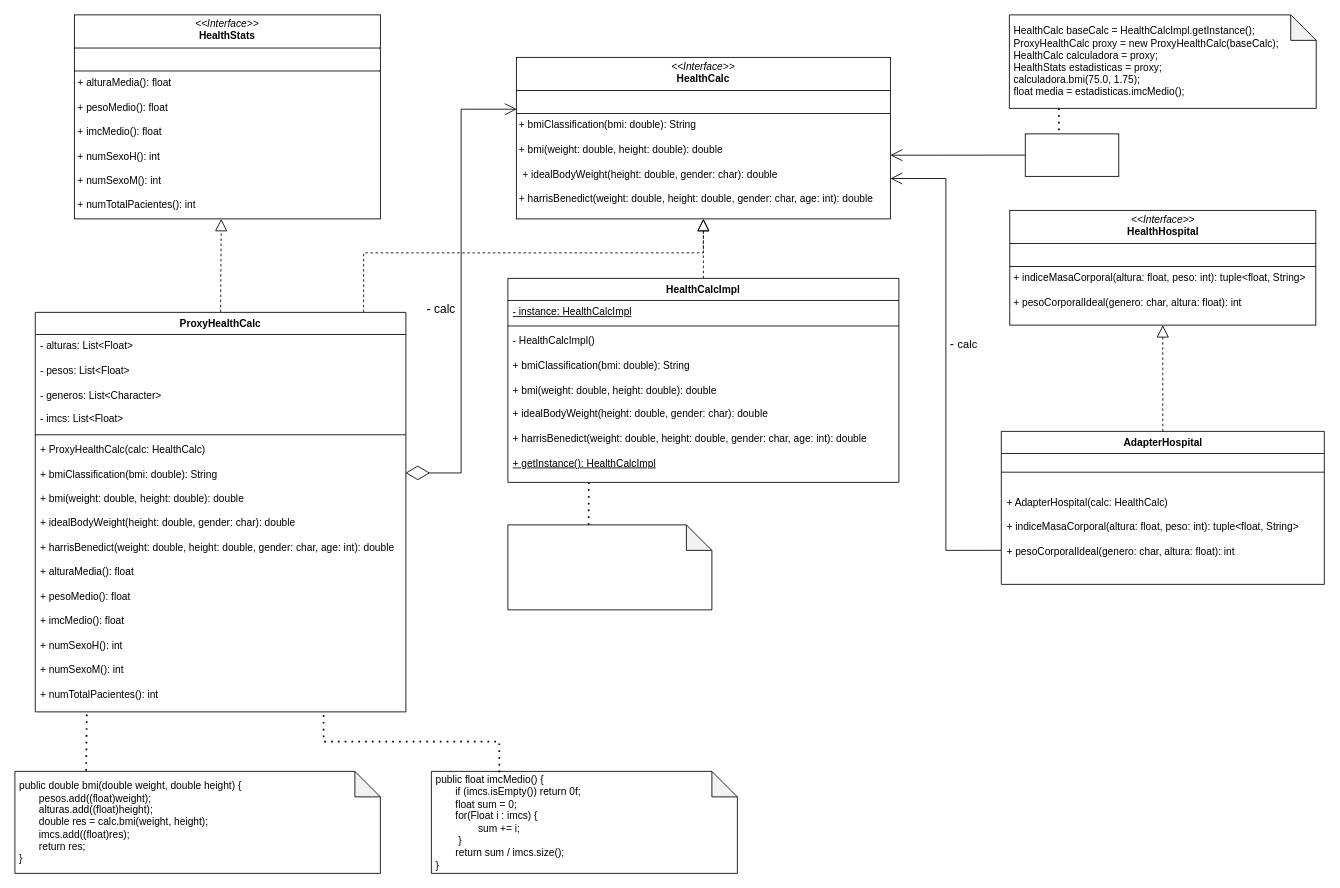
The diagram is 1340 pixels wide and 888 high, and some of its shapes have lost their labels. Here are the shapes that lost their labels. From the top down, the centre of each, then its label:
At point (1071, 154): "Main".
At point (609, 567): "if (instance == null ) { instance = new HealthCalcImpl(); } return instance;".
